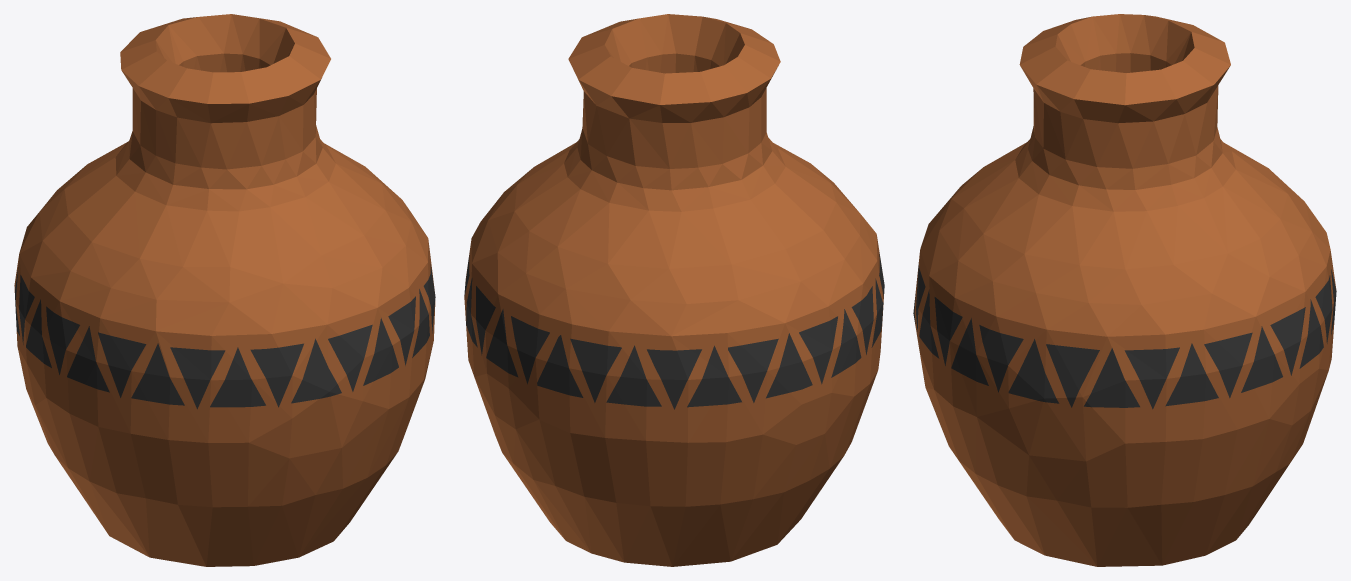
The model's file is Pottery 21_1.fbx.
The picture shows the model from 3 angles, left to right: view 1: azimuth 30°, elevation 25°; view 2: azimuth 150°, elevation 25°; view 3: azimuth 270°, elevation 25°; orthographic projection.
Parts seen in each view (by area): view 1: Pottery 21_1; view 2: Pottery 21_1; view 3: Pottery 21_1.
Part boxes in pixels (x1,y1,x2,y2): Pottery 21_1: (14, 14, 435, 566); Pottery 21_1: (464, 14, 884, 566); Pottery 21_1: (913, 14, 1336, 566).
Size of the model in its own units: 53.04 by 65.33 by 53.14.
